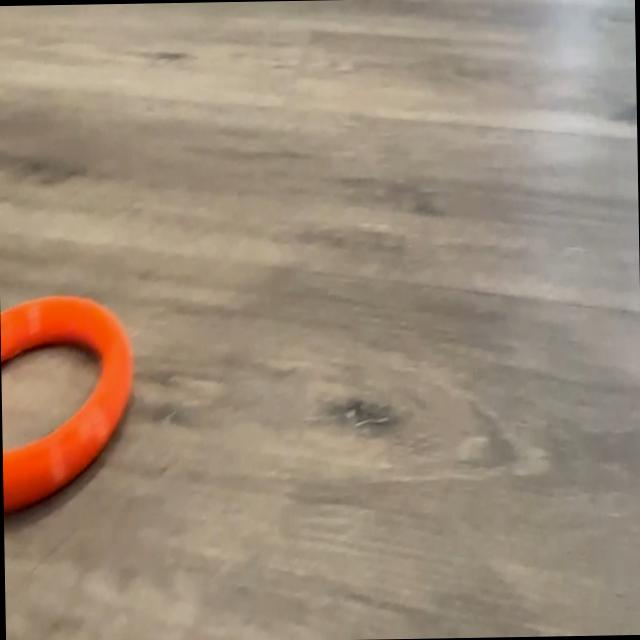note: (0, 286, 134, 524)
